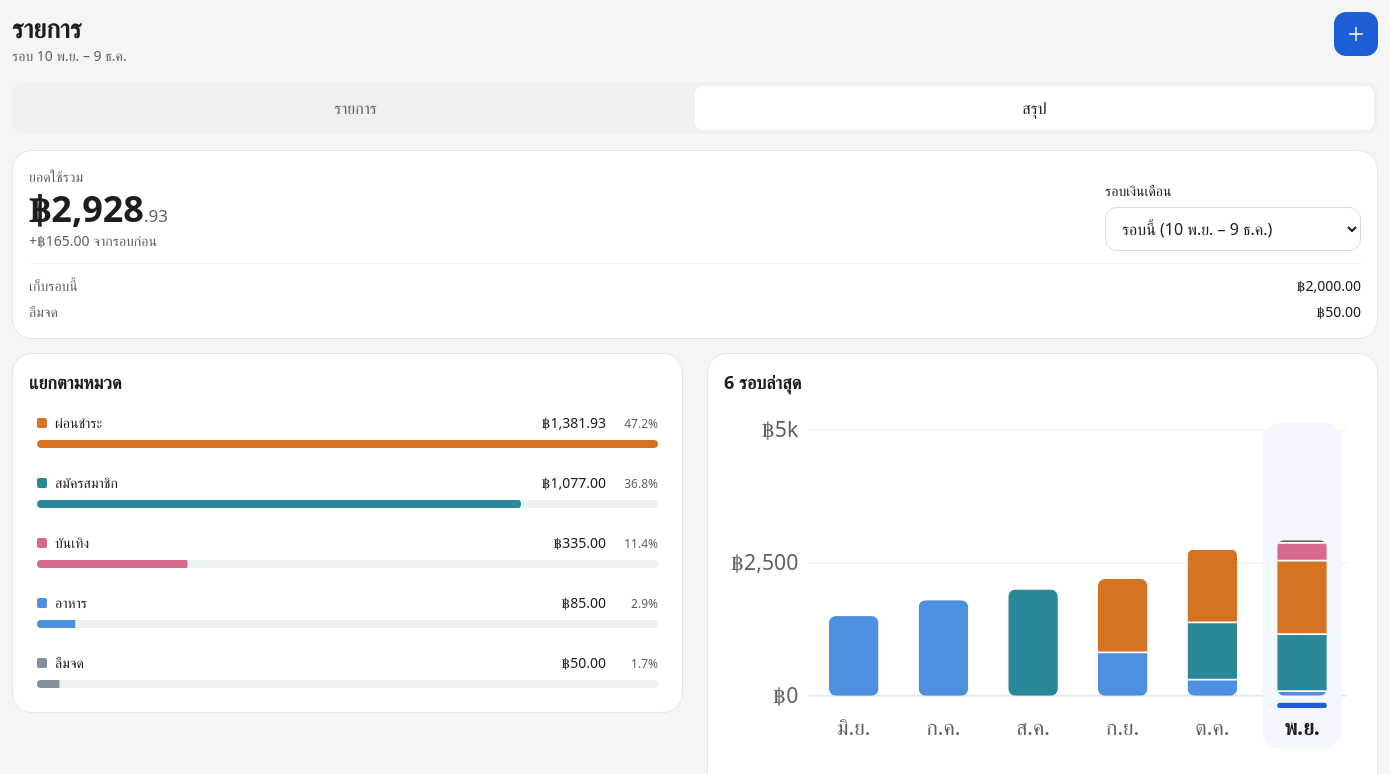
Test case: /entries summary tab › clicks a category horizontal bar to switch to รายการ tab filtered by that category
Step 1. Click the button "บันเทิง ฿335.00 11.4%" → point(72, 542), box [29,522,666,576]
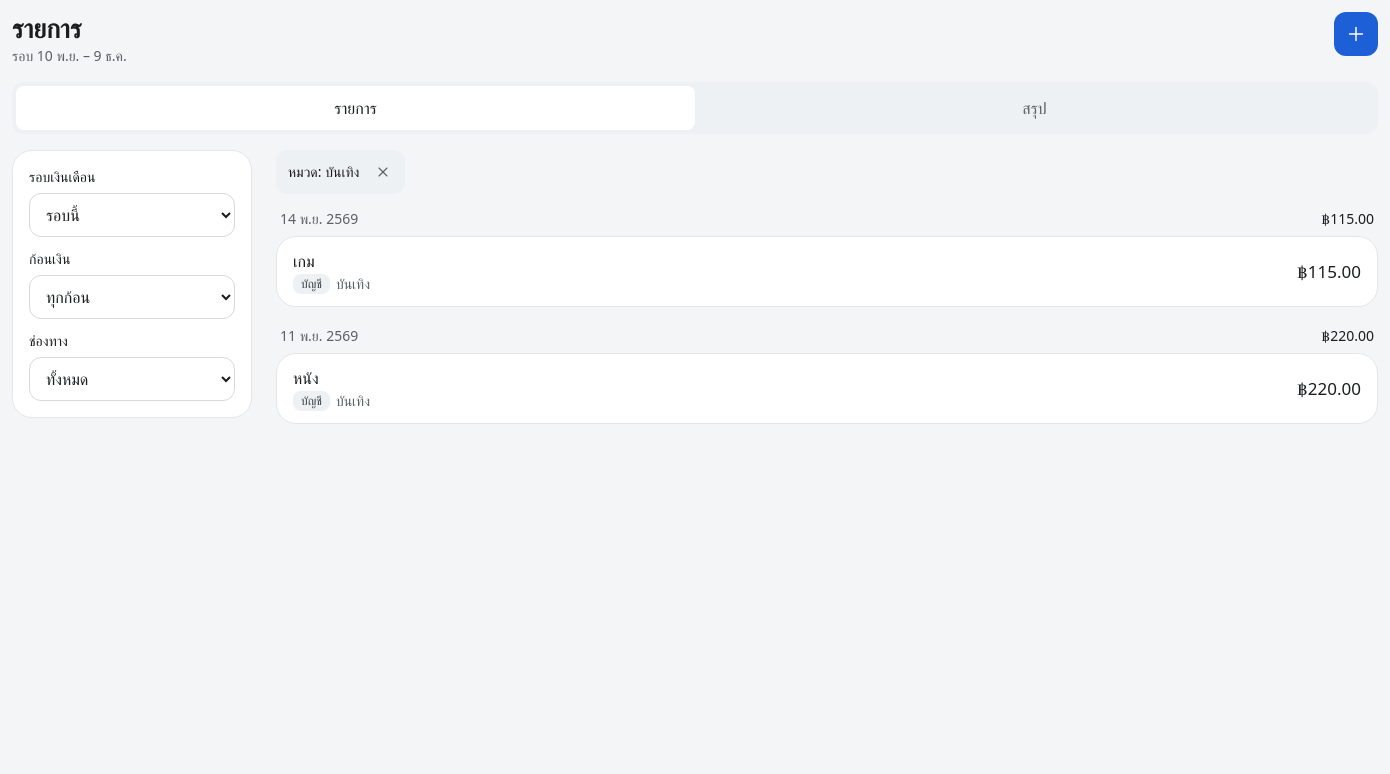
Check: the text "ชานม" is not shown
Check: the text "หนัง" is shown, box [293,367,319,389]
Check: the text "เกม" is shown, box [293,250,315,272]
Note: Clear category filter restores ชานม
Step 2. Click the button named "ล้างตัวกรองหมวด" → point(383, 172), box [365,154,401,190]
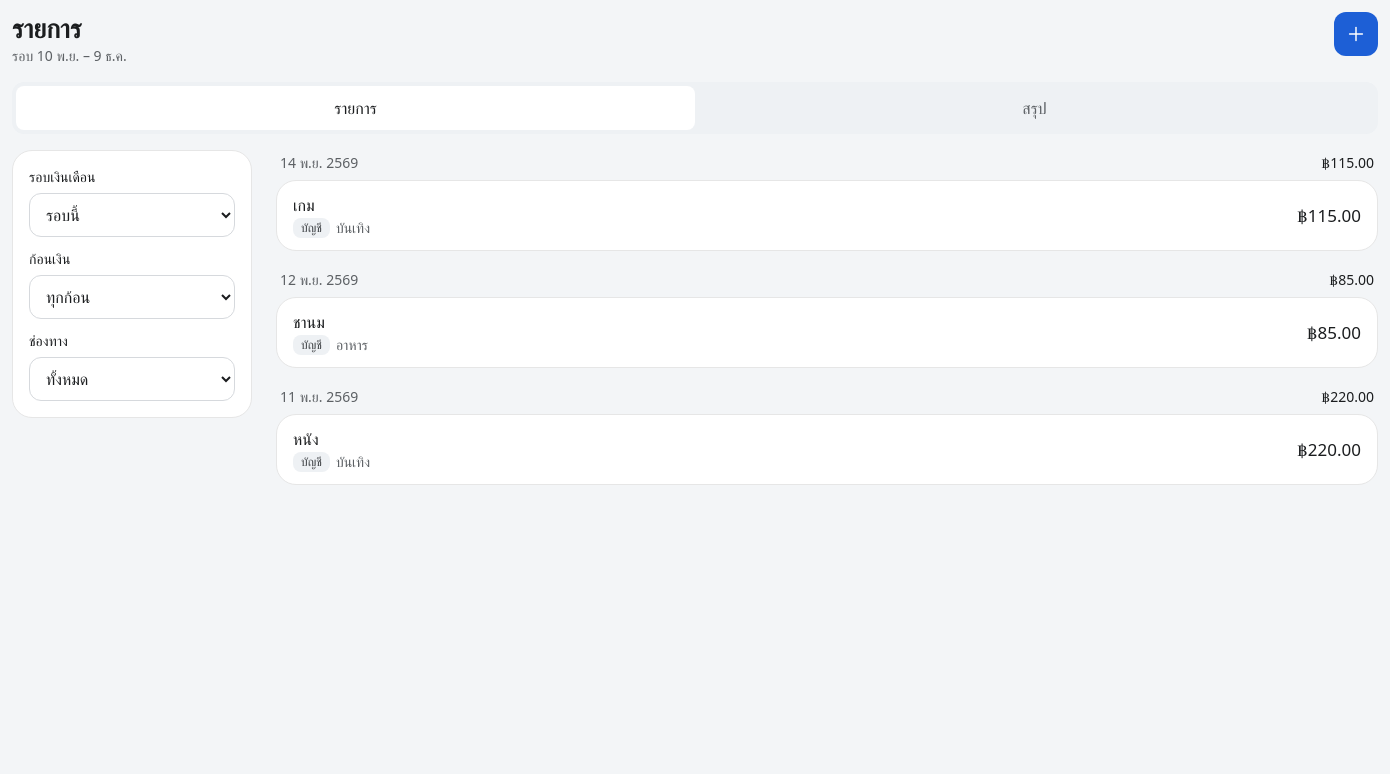
Check: the text "ชานม" is shown, box [293,311,325,333]
